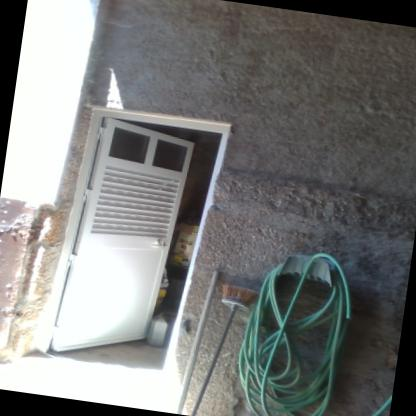semi: (40, 100, 235, 386)
